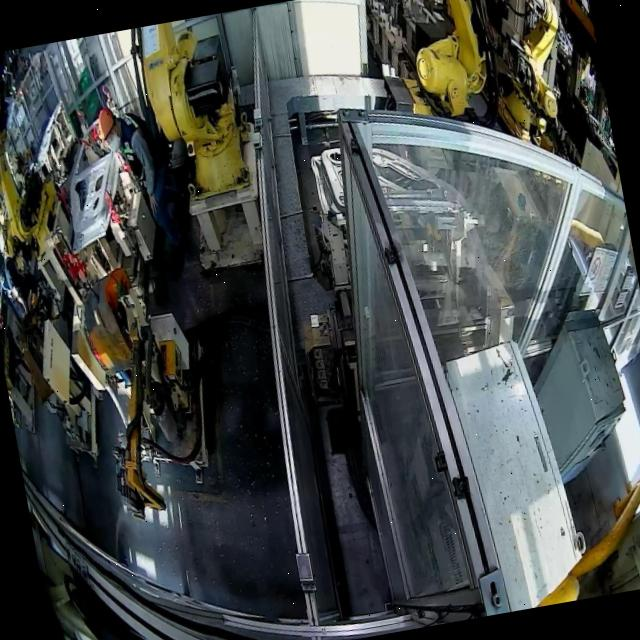Person: (88, 96, 188, 257)
